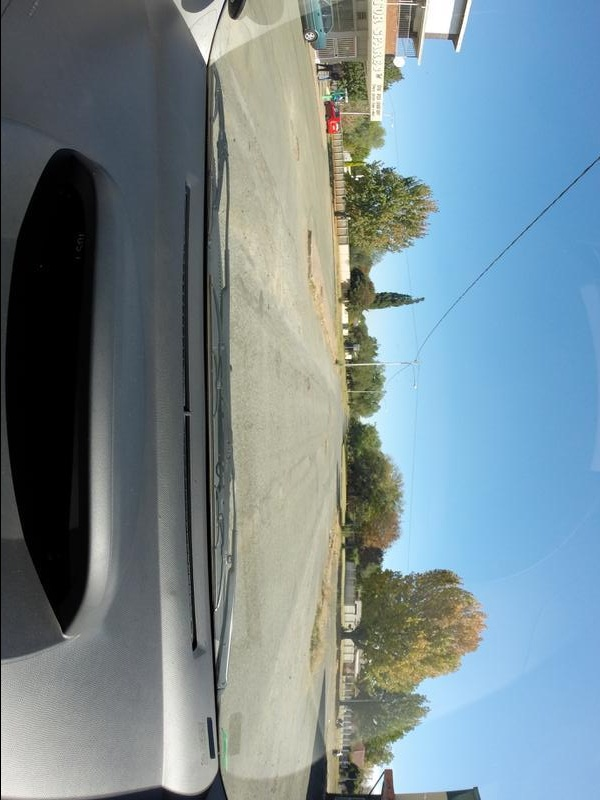pothole: (284, 124, 307, 169), (320, 443, 334, 466)
